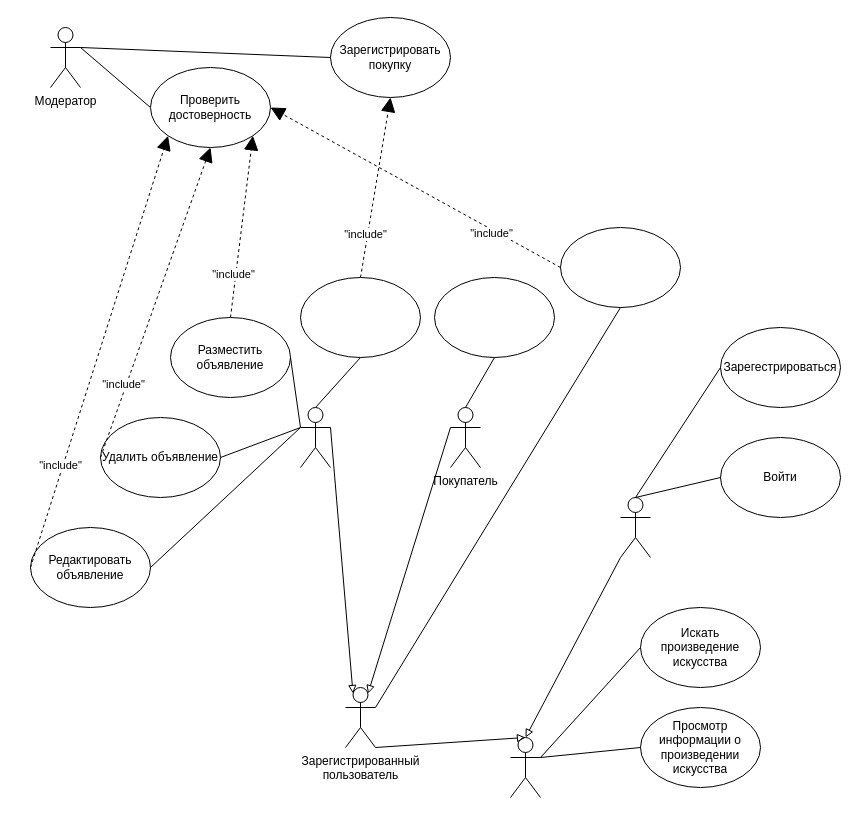
This 858x836 diagram has some shape labels left out. The box of each missing label's shape, as (x1, y1, x2, y2) in pixels:
Внести изменения: (560, 226, 680, 308)
Незарегистрированный пользователь: (620, 496, 650, 558)
Подтвердить запрос на покупку: (300, 276, 420, 358)
Пользователь: (510, 736, 540, 798)
Продавец: (300, 406, 330, 468)
Сделать запрос на покупку: (434, 276, 554, 358)
